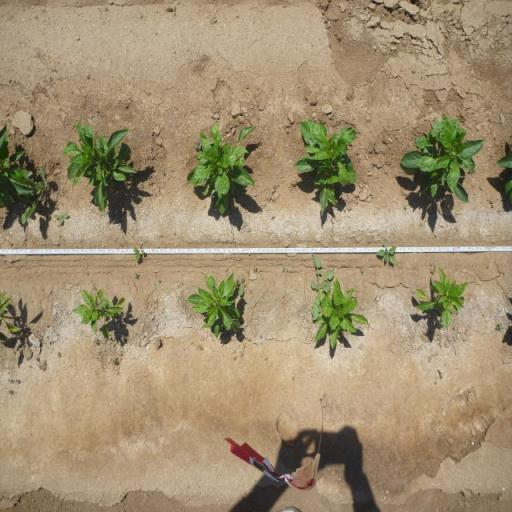plant: (394, 110, 486, 206), (185, 118, 259, 218), (62, 116, 138, 213), (290, 116, 360, 219), (313, 274, 369, 357), (184, 270, 243, 343), (416, 264, 470, 332), (71, 286, 126, 336), (0, 122, 28, 208), (0, 290, 23, 342)
weed: (307, 252, 335, 321), (24, 164, 49, 226), (376, 240, 398, 265), (132, 246, 146, 264), (236, 277, 246, 297), (54, 212, 68, 226), (495, 322, 505, 331), (193, 139, 201, 150), (112, 356, 120, 366), (360, 263, 365, 275), (133, 271, 140, 279), (120, 334, 125, 344), (252, 266, 258, 274), (94, 338, 99, 346), (282, 267, 288, 273), (197, 344, 203, 350), (8, 390, 14, 396), (57, 351, 61, 358), (161, 170, 165, 174), (274, 184, 276, 188), (158, 278, 160, 282)
